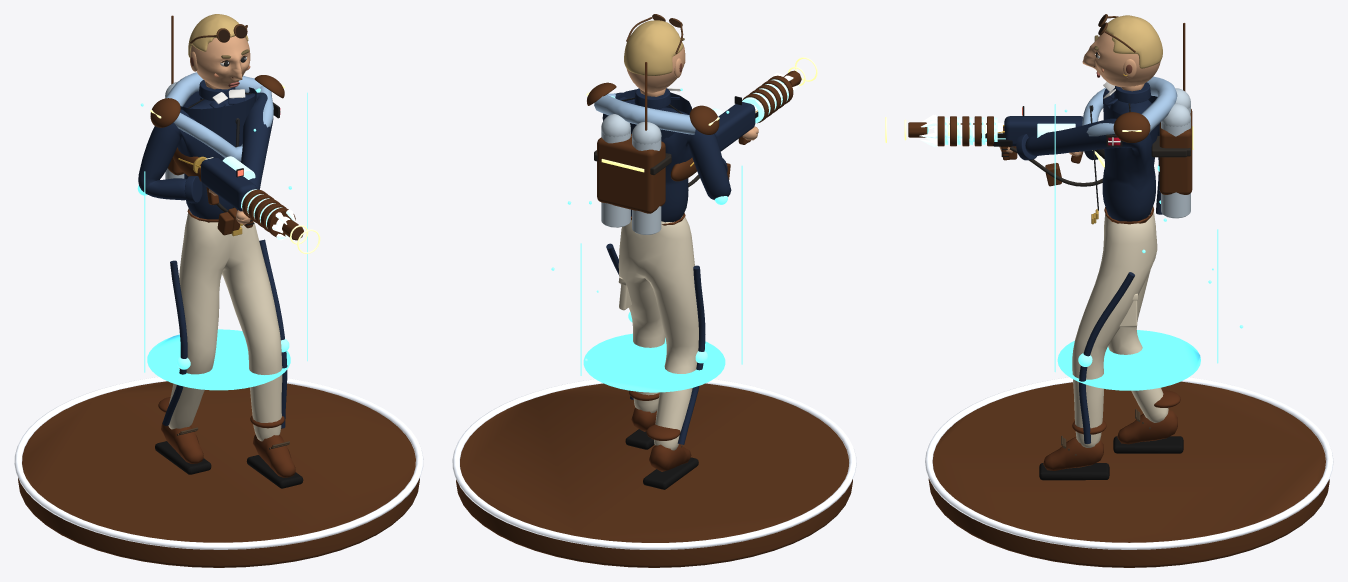
File: frost_hellerup.glb
The picture shows the model from 3 angles, left to right: view 1: azimuth 30°, elevation 25°; view 2: azimuth 150°, elevation 25°; view 3: azimuth 270°, elevation 25°; orthographic projection.
Visible parts, largest first — view 1: fod_net, menneske_net, op4.001_net, vaaben_net, hoved_net, op4.002_net, op3.001_net; view 2: fod_net, menneske_net, op4.001_net, op3.001_net, hoved_net, vaaben_net, op4.002_net; view 3: fod_net, menneske_net, op4.001_net, hoved_net, vaaben_net, op3.001_net, op4.002_net, op1_net.
Part boxes in pixels (left/top/right/bottom): fod_net: left=14, top=377, right=423, bottom=567; menneske_net: left=138, top=72, right=303, bottom=488; op4.001_net: left=140, top=92, right=307, bottom=390; vaaben_net: left=172, top=147, right=298, bottom=237; hoved_net: left=188, top=14, right=250, bottom=89; op4.002_net: left=137, top=88, right=289, bottom=428; op3.001_net: left=150, top=15, right=284, bottom=175; fod_net: left=452, top=379, right=856, bottom=567; menneske_net: left=594, top=88, right=758, bottom=489; op4.001_net: left=551, top=88, right=742, bottom=392; op3.001_net: left=586, top=62, right=719, bottom=213; hoved_net: left=624, top=14, right=685, bottom=92; vaaben_net: left=670, top=75, right=799, bottom=181; op4.002_net: left=606, top=96, right=727, bottom=444; fod_net: left=925, top=377, right=1333, bottom=567; menneske_net: left=999, top=76, right=1190, bottom=480; op4.001_net: left=1054, top=104, right=1243, bottom=390; hoved_net: left=1082, top=14, right=1162, bottom=87; vaaben_net: left=919, top=116, right=1104, bottom=163; op3.001_net: left=1113, top=23, right=1193, bottom=194; op4.002_net: left=1078, top=123, right=1162, bottom=443; op1_net: left=920, top=114, right=1102, bottom=186.
Size of the model in its own units: 1.94 by 2.44 by 2.12.
